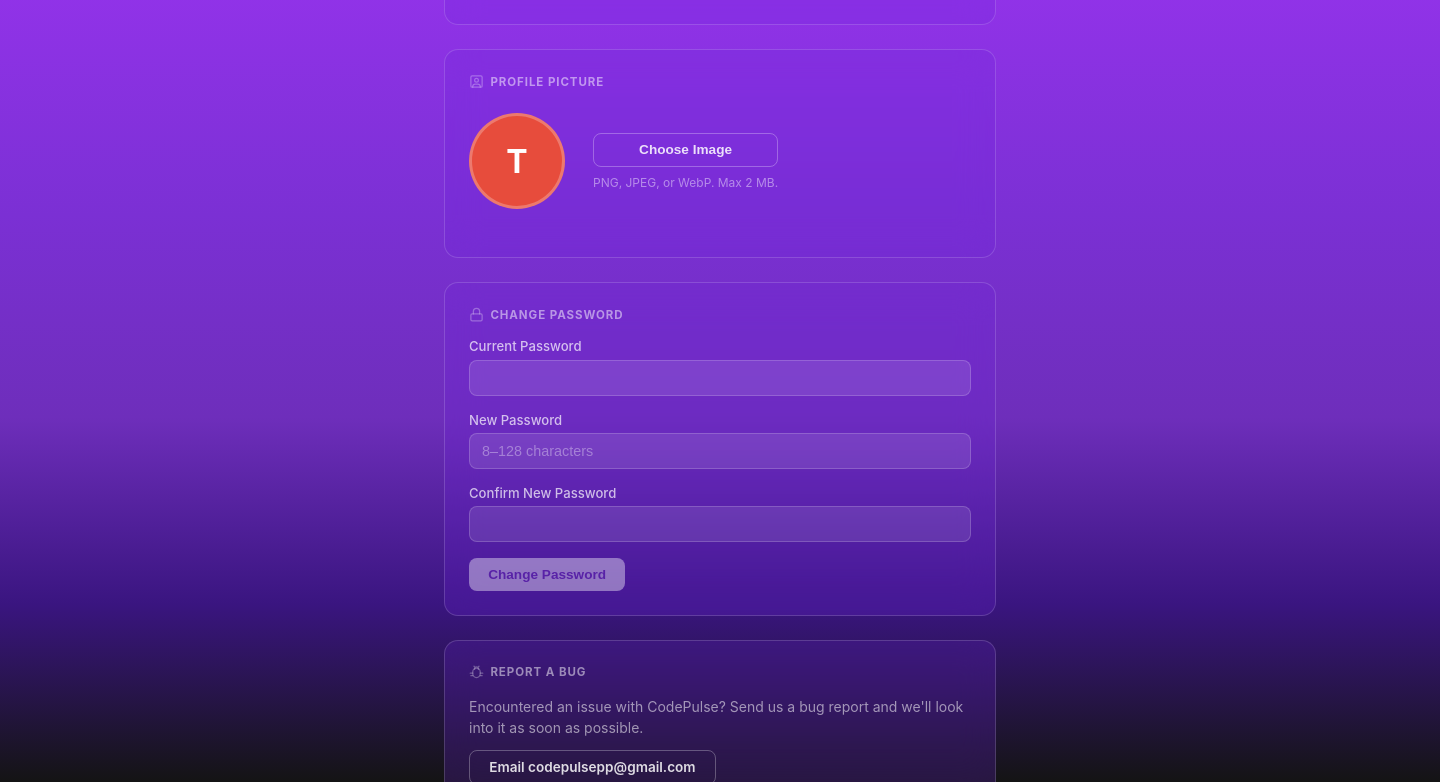
Test case: AccountPage › shows error when new password and confirm password do not match
This screenshot has width=1440, height=782.
(page scrolled)
Type "oldpass123" into the password field labelled "Current Password" at (720, 378), box [469,360,971,396]
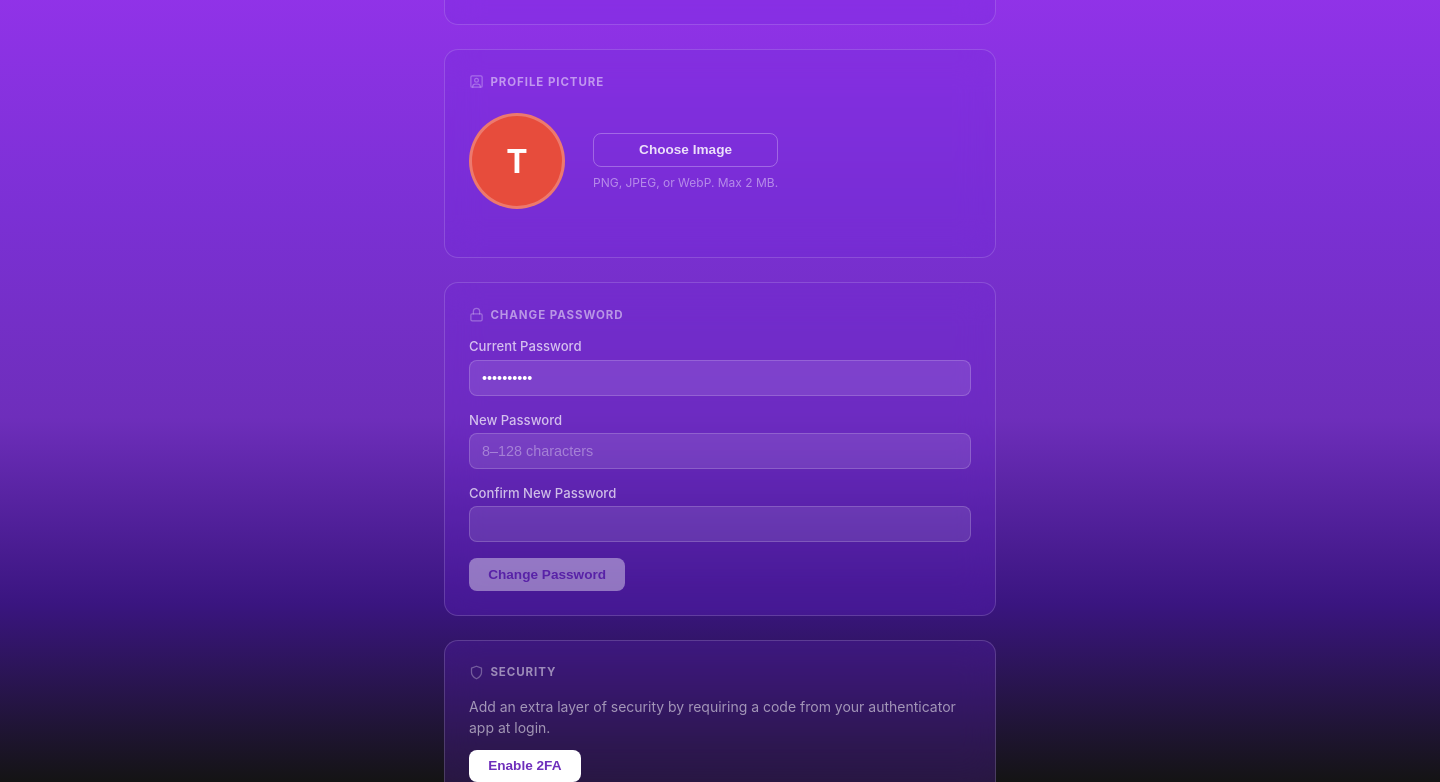
Type "newpass123" into the password field labelled "New Password" at (720, 451), box [469,433,971,469]
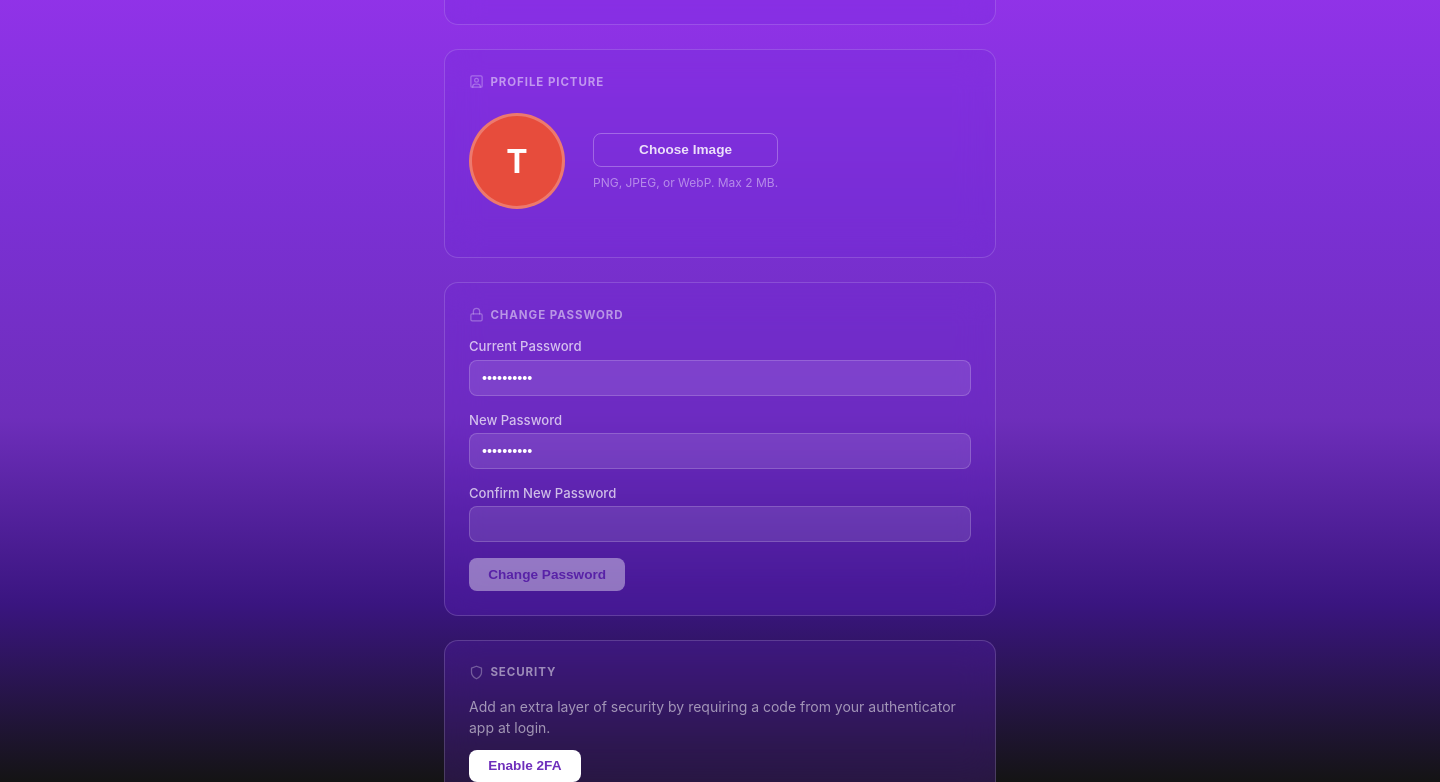
Type "different123" into the password field labelled "Confirm New Password" at (720, 524), box [469,506,971,542]
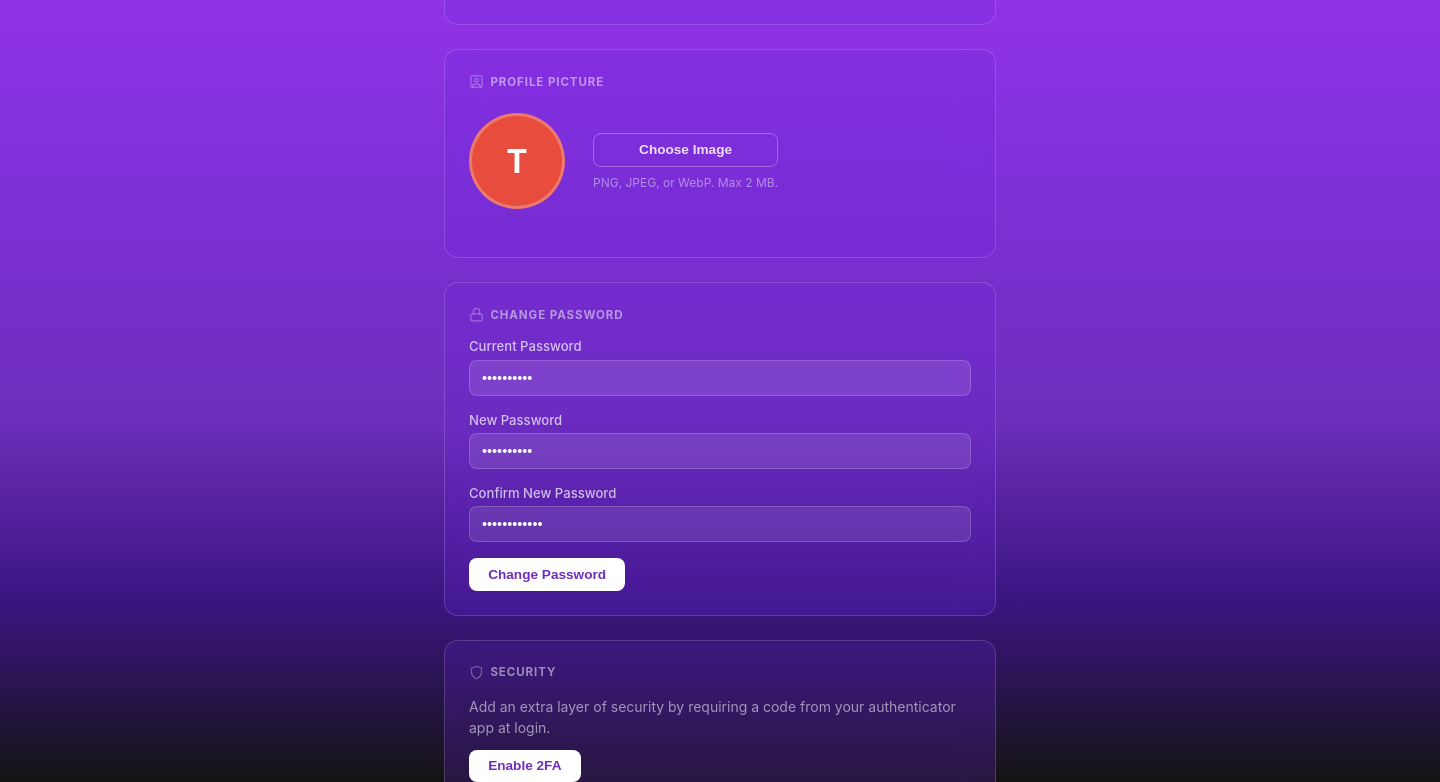
Click the button "Change Password" at (547, 574), box [469,558,625,590]
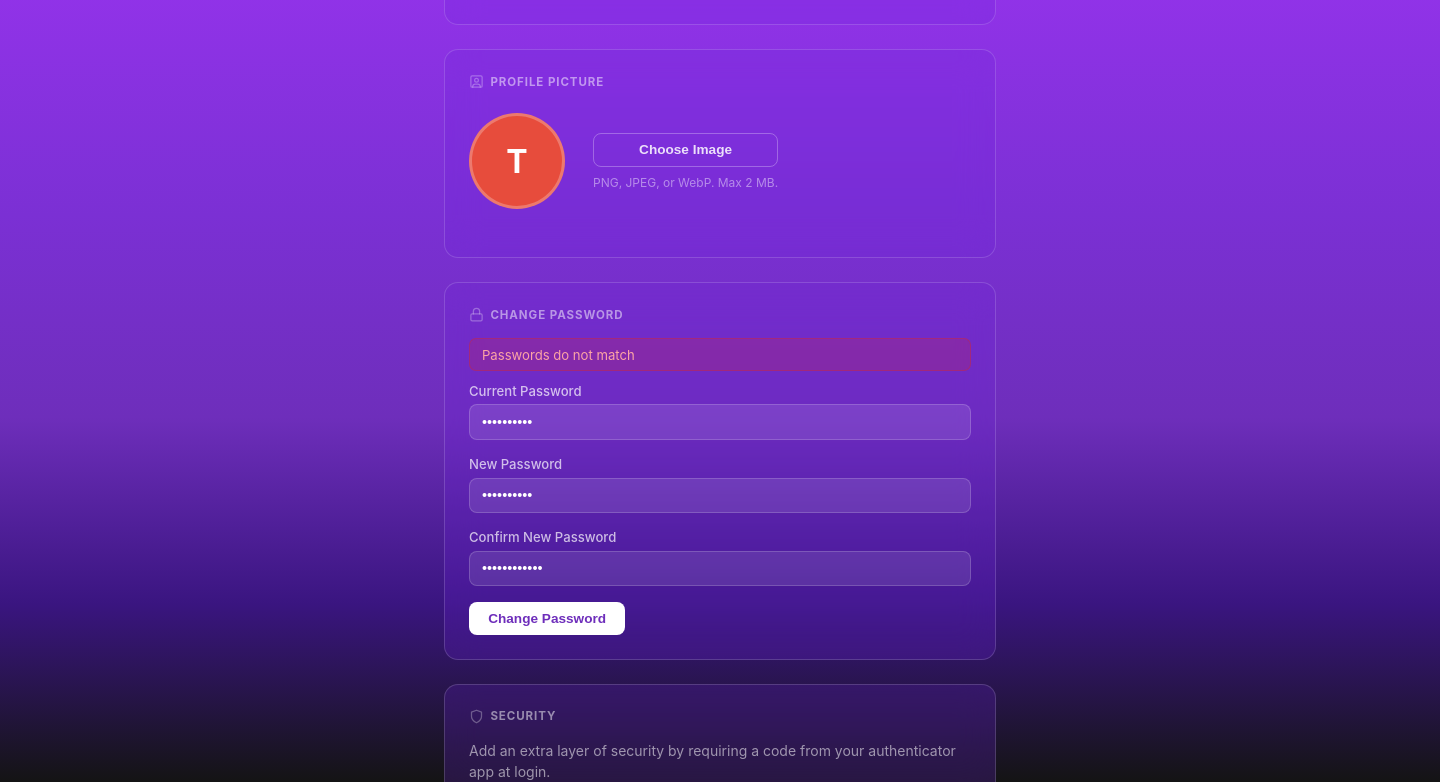
Now the text "Passwords do not match" is shown, box [469,338,971,371]
